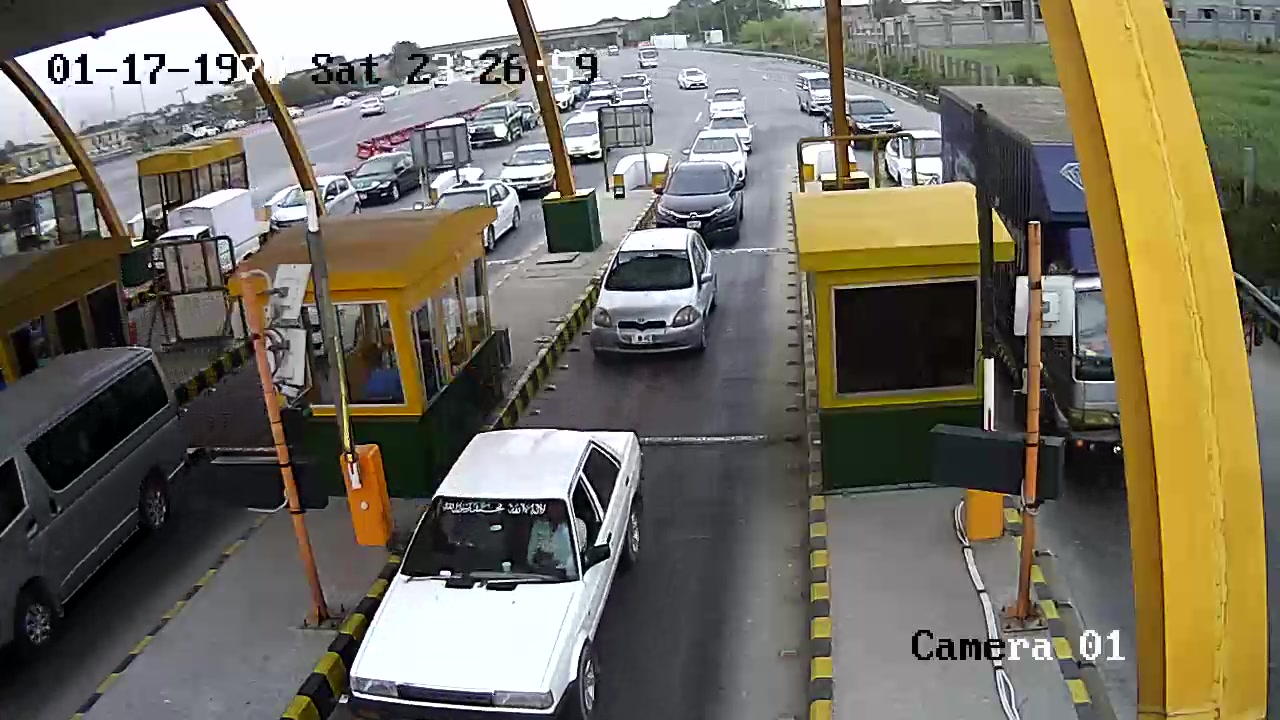F1: (345, 418, 650, 711), (584, 219, 723, 368)
